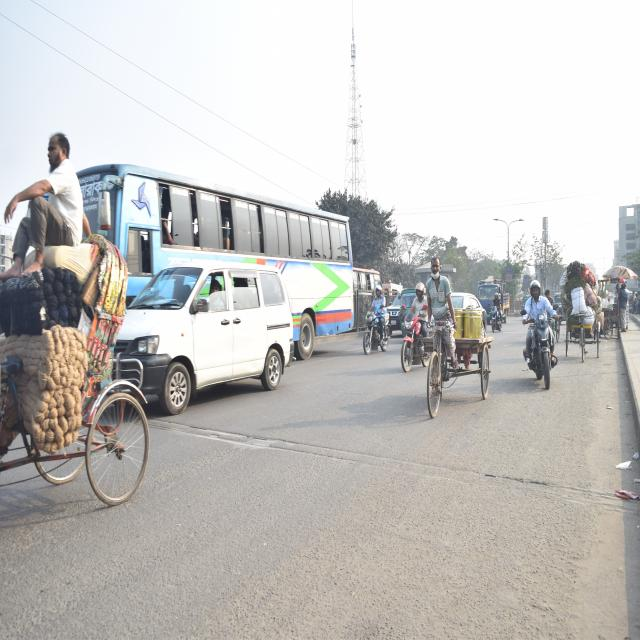bus: (83, 158, 355, 339)
car: (123, 268, 290, 410)
motorbike: (518, 310, 561, 406), (398, 308, 438, 370), (360, 305, 388, 355), (489, 302, 504, 333)
truck: (479, 284, 514, 312)
